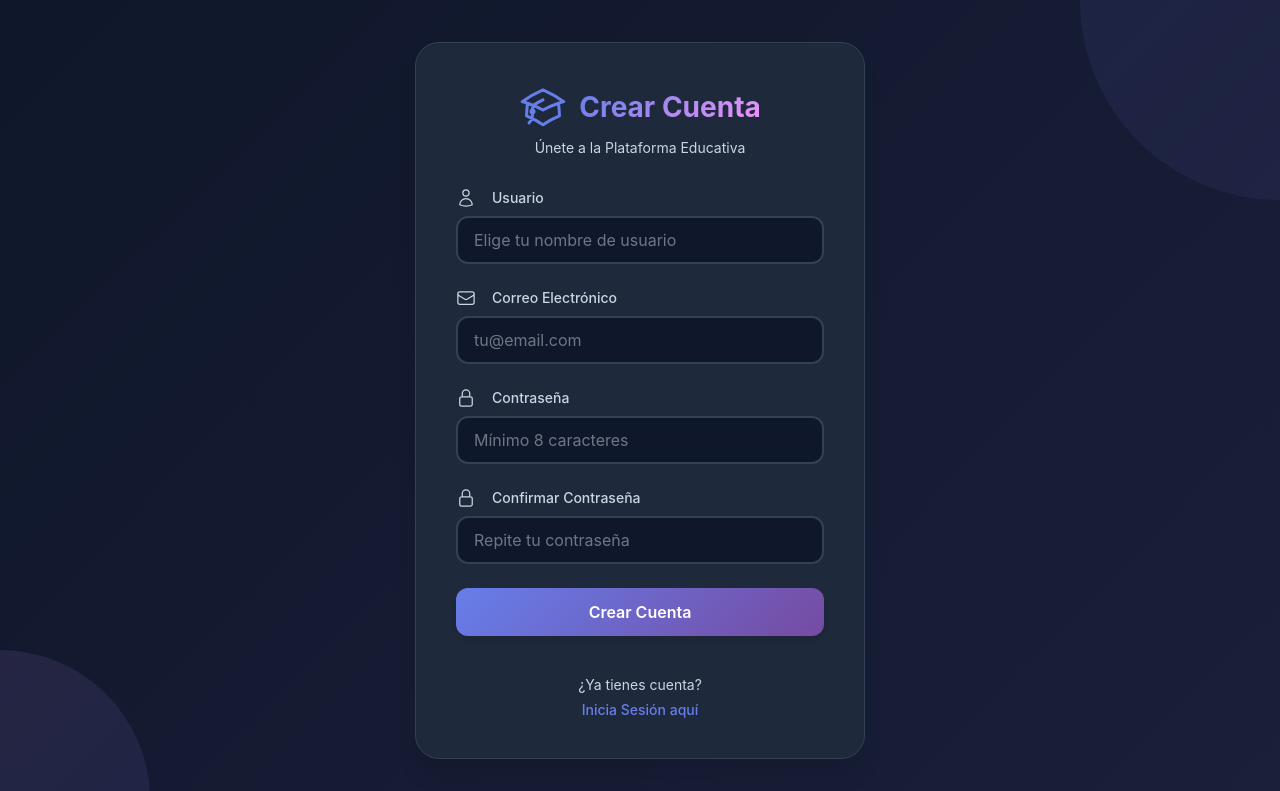
Test: Register Component › Registro exitoso › debe mostrar mensaje de éxito después de registro
Type "testuser" into the field labelled "Usuario" at x=640, y=240, box [456,216,824,264]
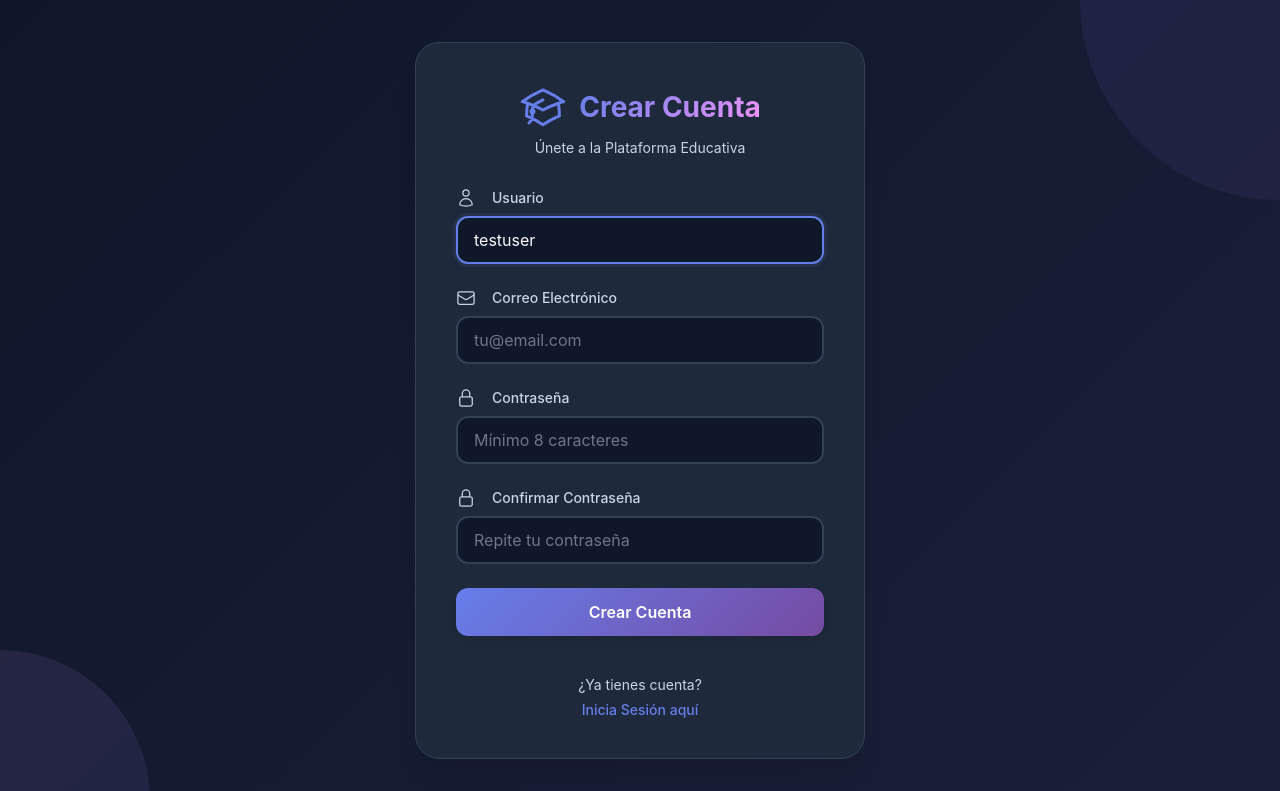
Type "test@example.com" into the field labelled "Correo Electrónico" at x=640, y=340, box [456,316,824,364]
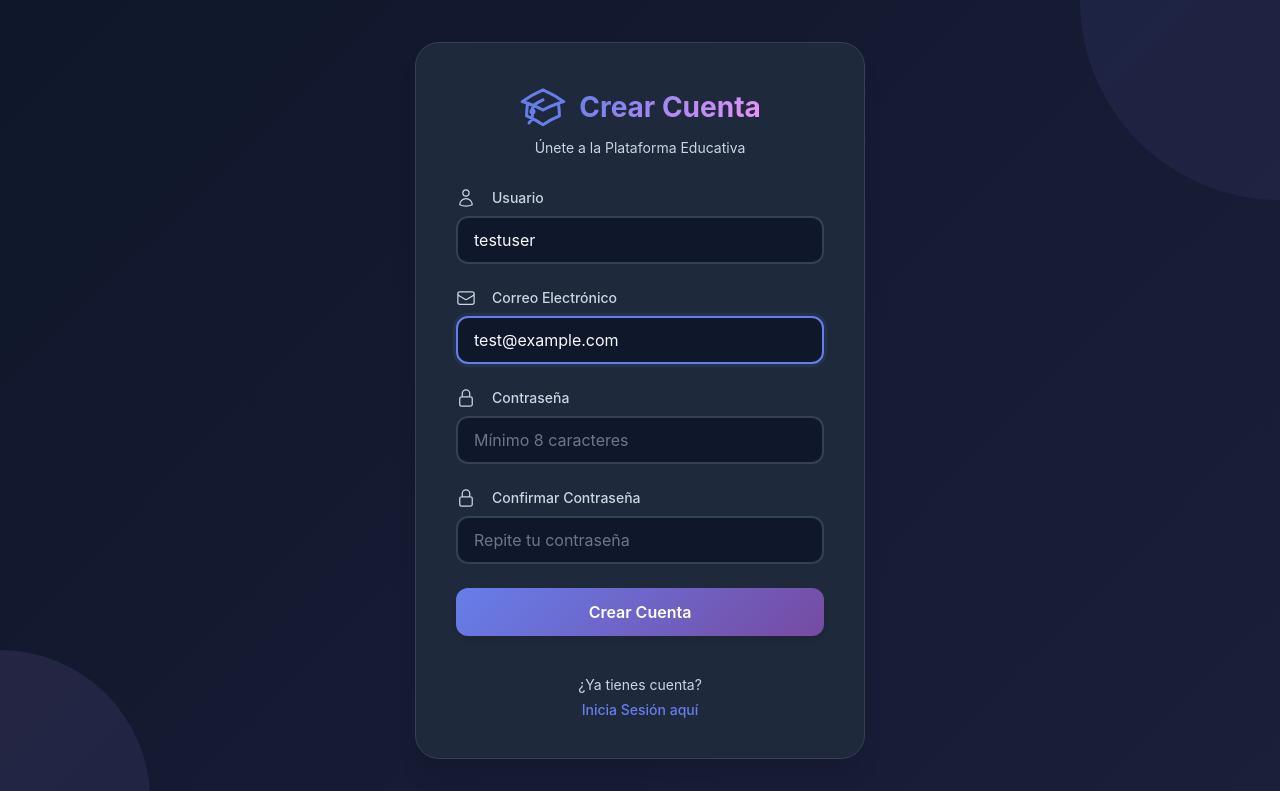
Type "password123" into the password field labelled "Contraseña" at x=640, y=440, box [456,416,824,464]
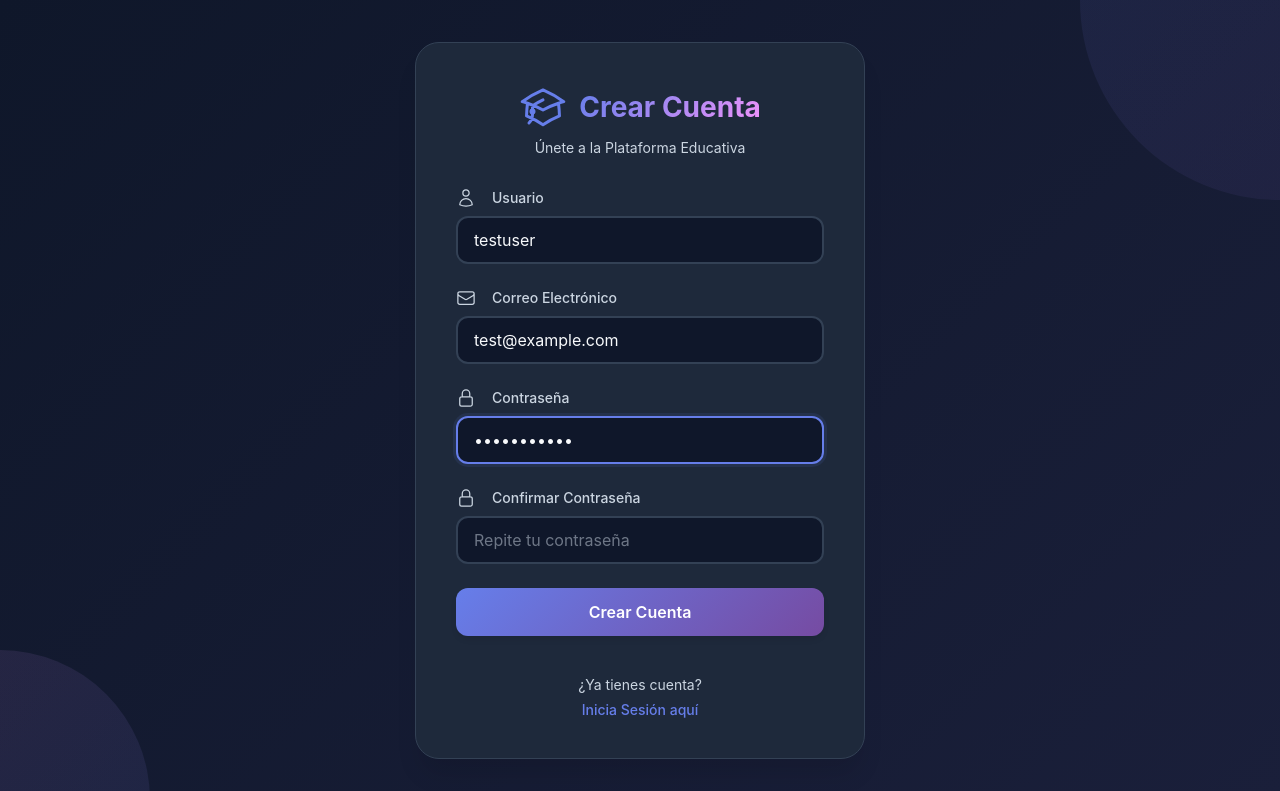
Type "password123" into the password field labelled "Confirmar Contraseña" at x=640, y=540, box [456,516,824,564]
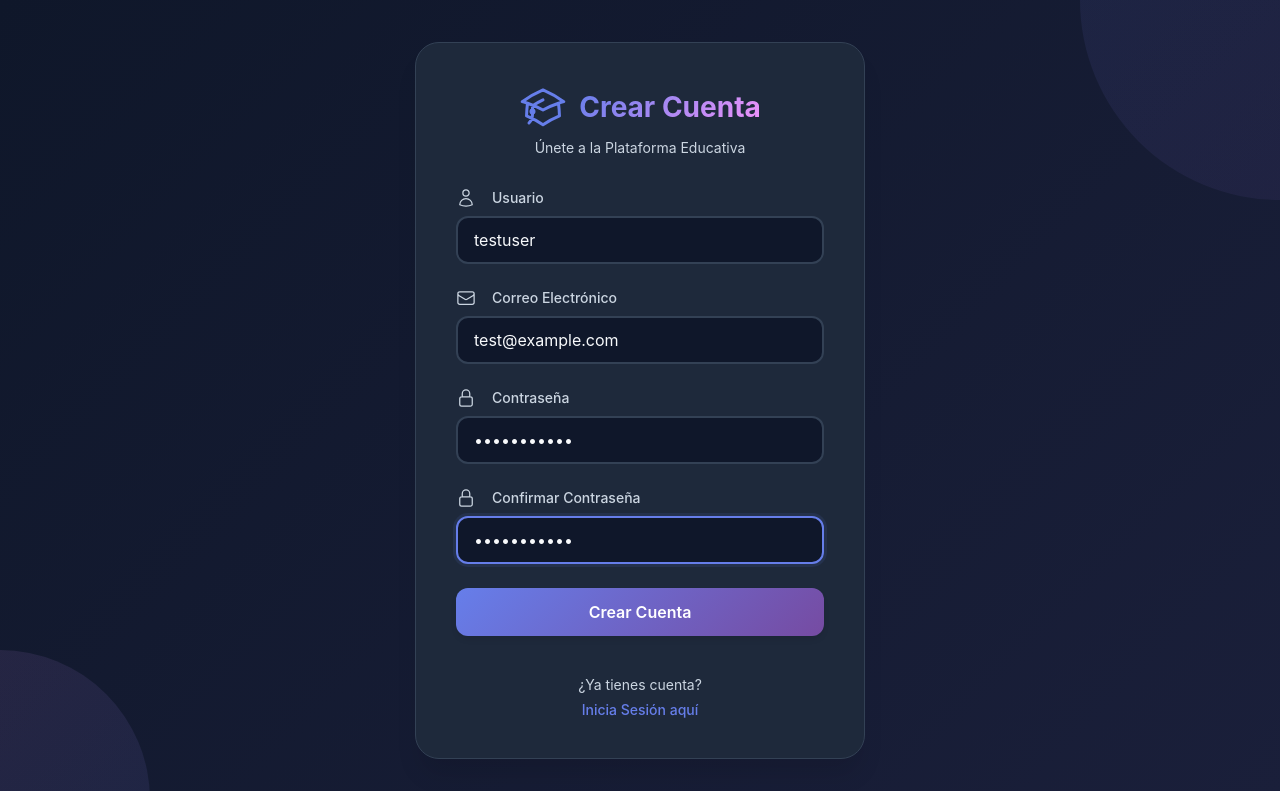
Click the button "Crear Cuenta" at x=640, y=612, box [456,588,824,636]
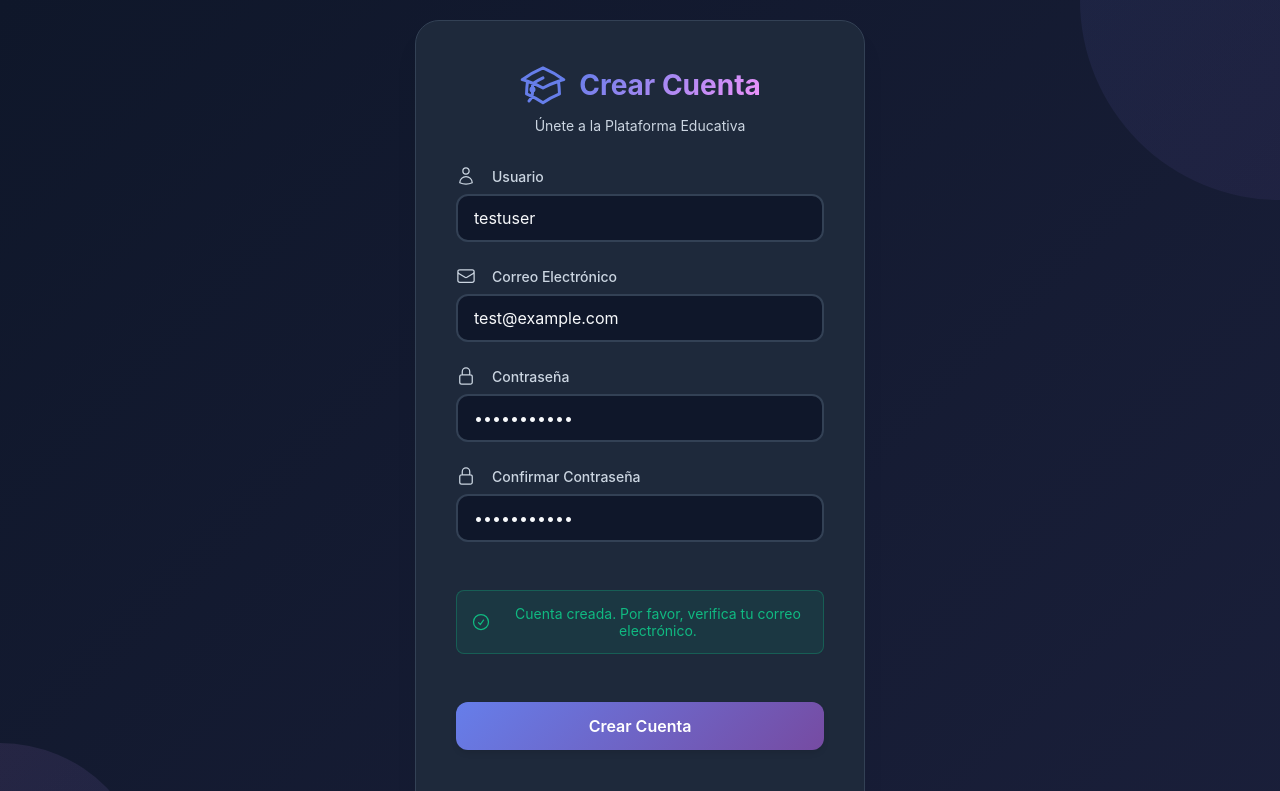
Expected: the text "Cuenta creada. Por favor, verifica tu correo electrónico." is shown, [456,590,824,654]
